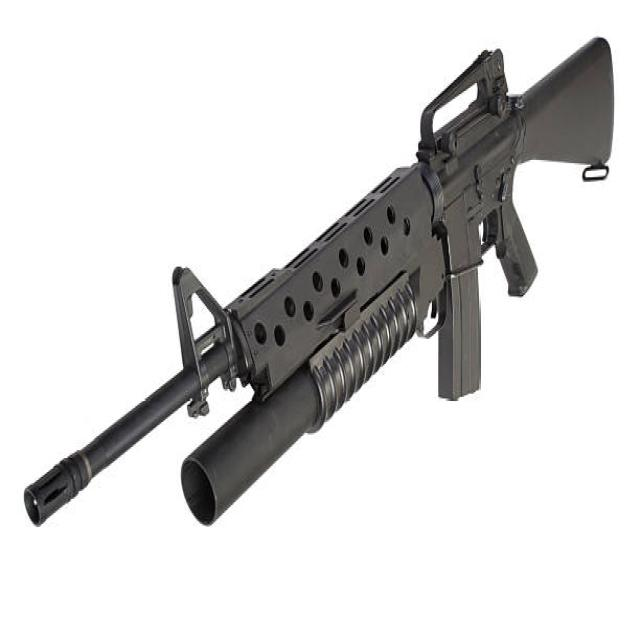rifle: (20, 27, 620, 538)
